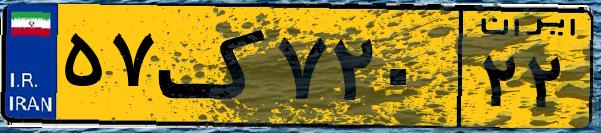0: (385, 28, 445, 110)
2: (330, 28, 385, 110), (475, 38, 525, 113), (525, 38, 570, 115)
5: (57, 26, 110, 100)
7: (270, 28, 330, 110), (110, 28, 158, 98)
ک: (158, 12, 270, 120)
